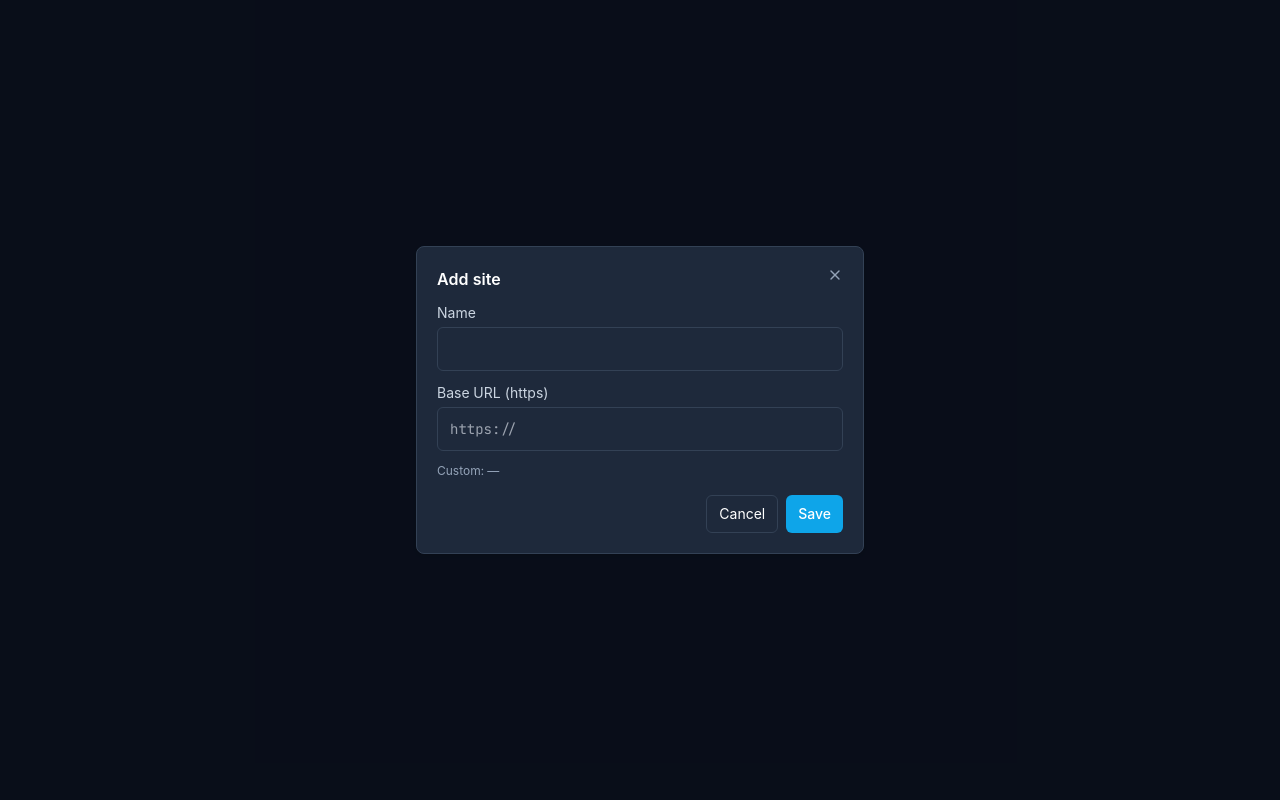
it: F78 AddSiteQuick › an http:// URL produces an inline error and issues no POST
Type "Python docs" into the field with test id "add-site-name" at (640, 349), box [437, 327, 843, 371]
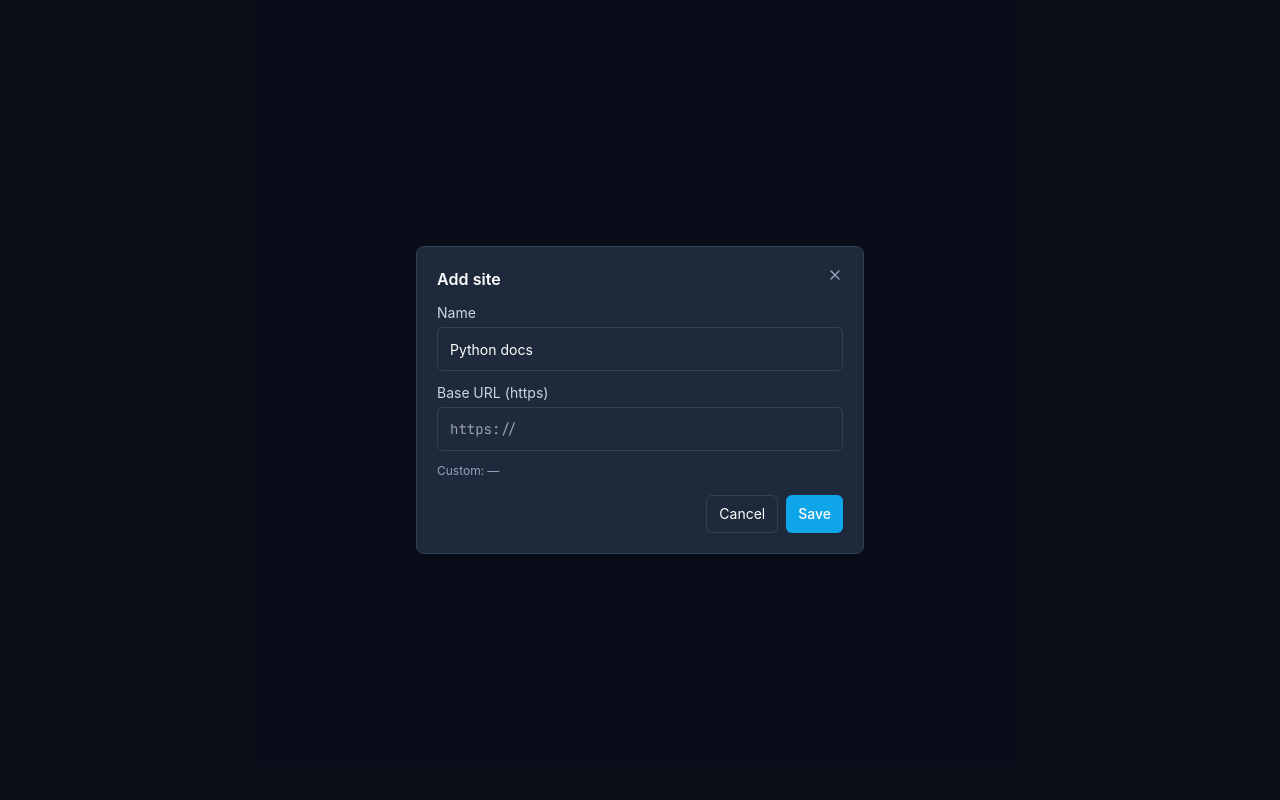
Type "http://docs.python.org" into the field with test id "add-site-url" at (640, 429), box [437, 407, 843, 451]
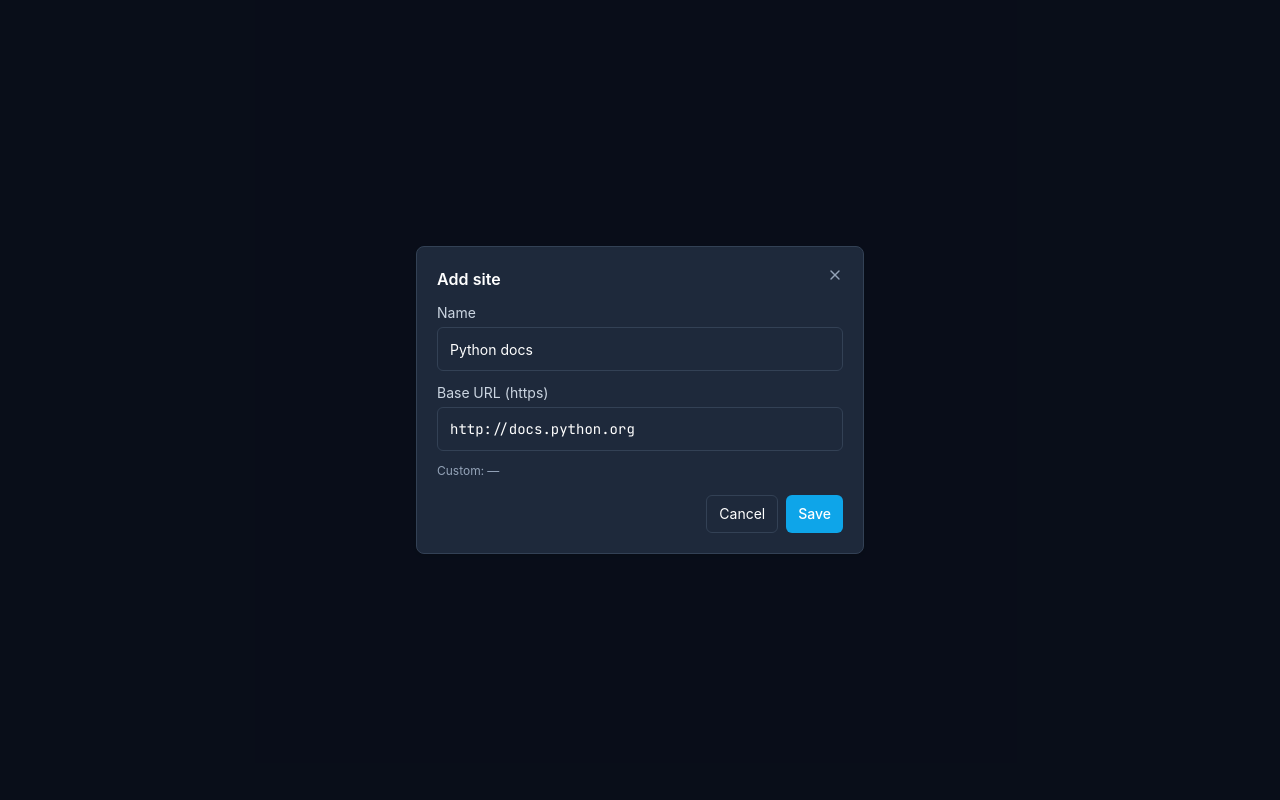
Click the button with test id "add-site-save" at (815, 514), box [786, 495, 843, 533]
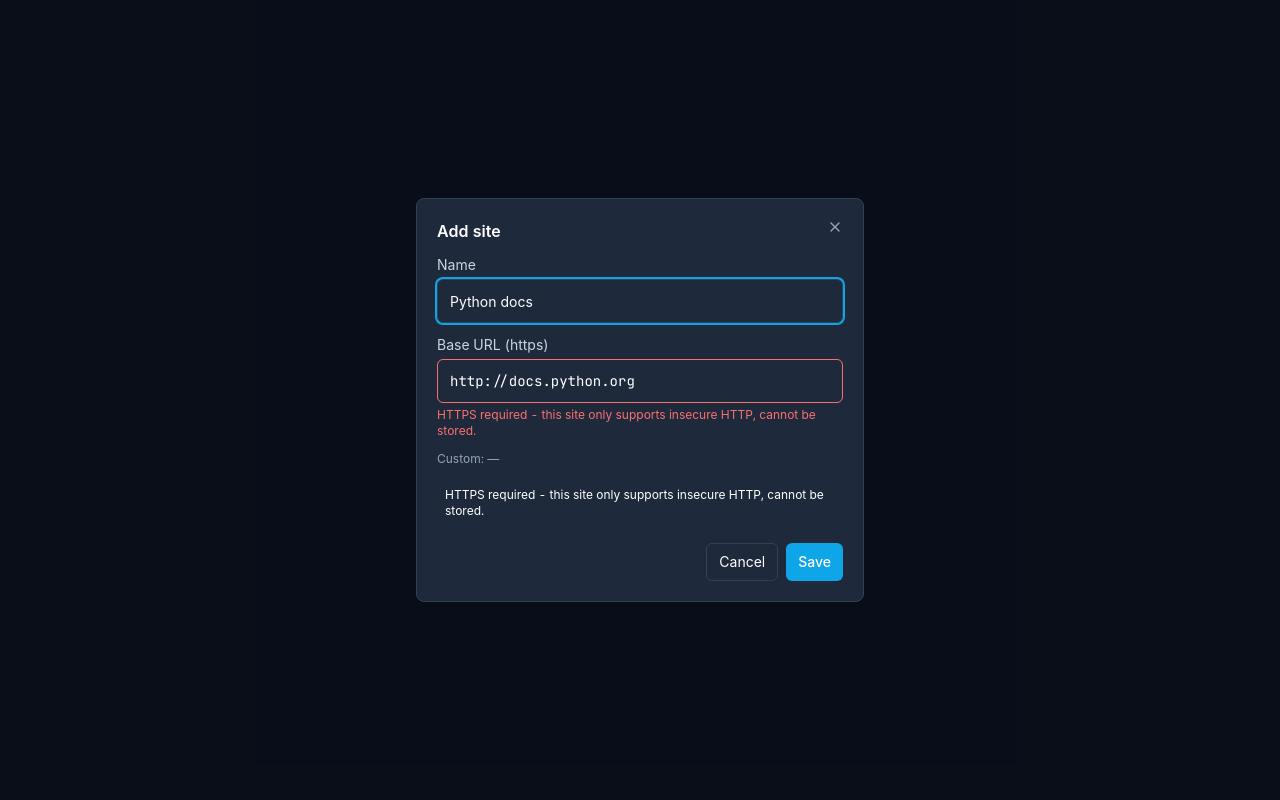
Check: the message with test id "add-site-error" shows "HTTPS", box [445, 487, 824, 518]
